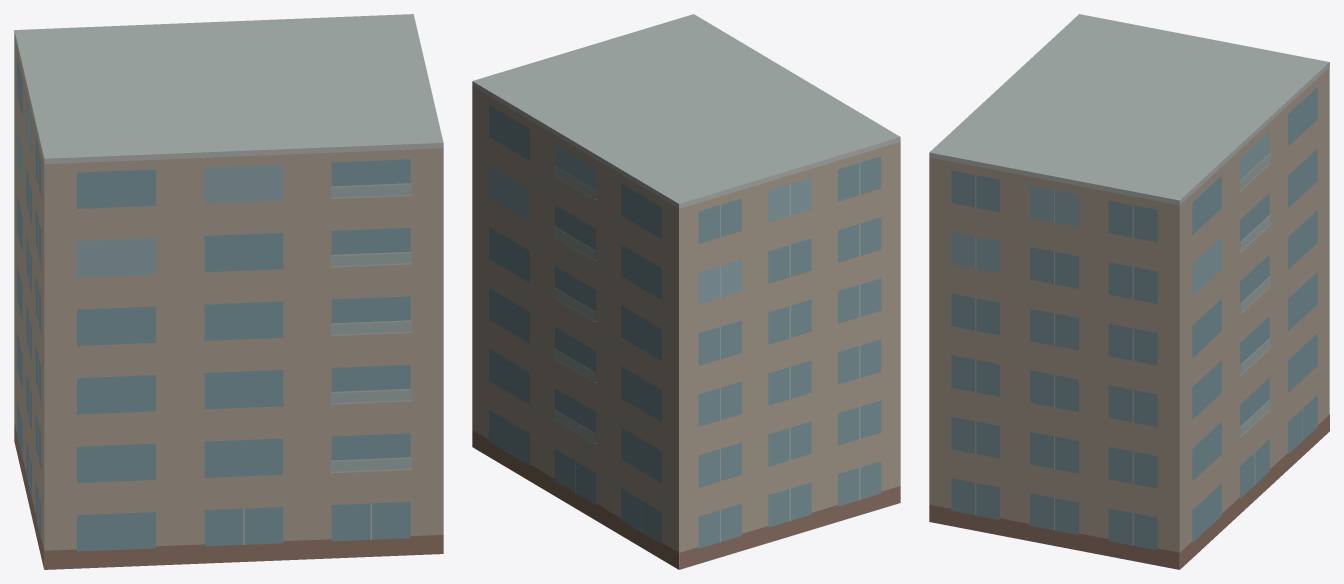
Rendered from survey-upis-32976641.glb.
The picture shows the model from 3 angles, left to right: view 1: azimuth 30°, elevation 25°; view 2: azimuth 150°, elevation 25°; view 3: azimuth 270°, elevation 25°; orthographic projection. The views are drawn at different scales.
Visible parts, largest first — view 1: survey-upis-32976641.tmp; view 2: survey-upis-32976641.tmp; view 3: survey-upis-32976641.tmp.
Part boxes in pixels (<box>): survey-upis-32976641.tmp: <box>14,14,443,569</box>; survey-upis-32976641.tmp: <box>472,14,900,569</box>; survey-upis-32976641.tmp: <box>929,14,1329,569</box>.
Bounding box in the file's own units: 19.83 × 18.3 × 17.99.
